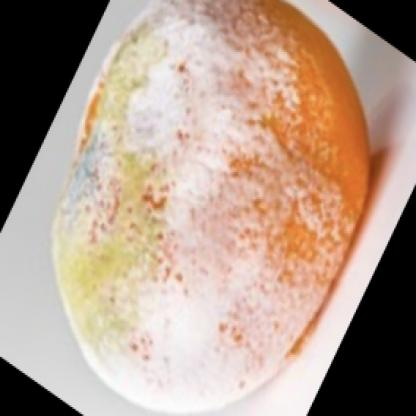rotten: (54, 1, 370, 416)
